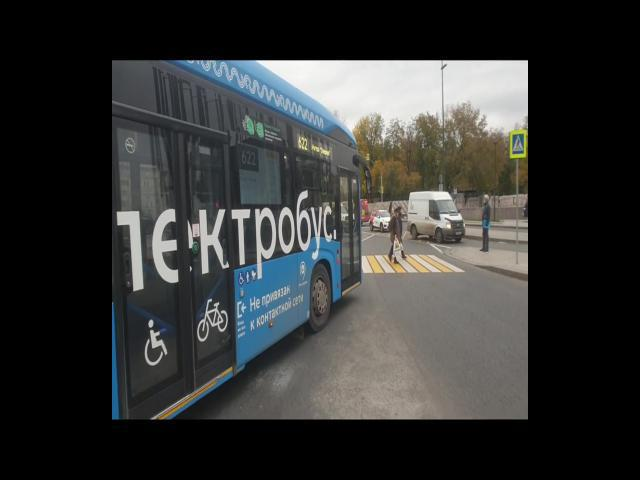bus: (121, 66, 364, 396)
